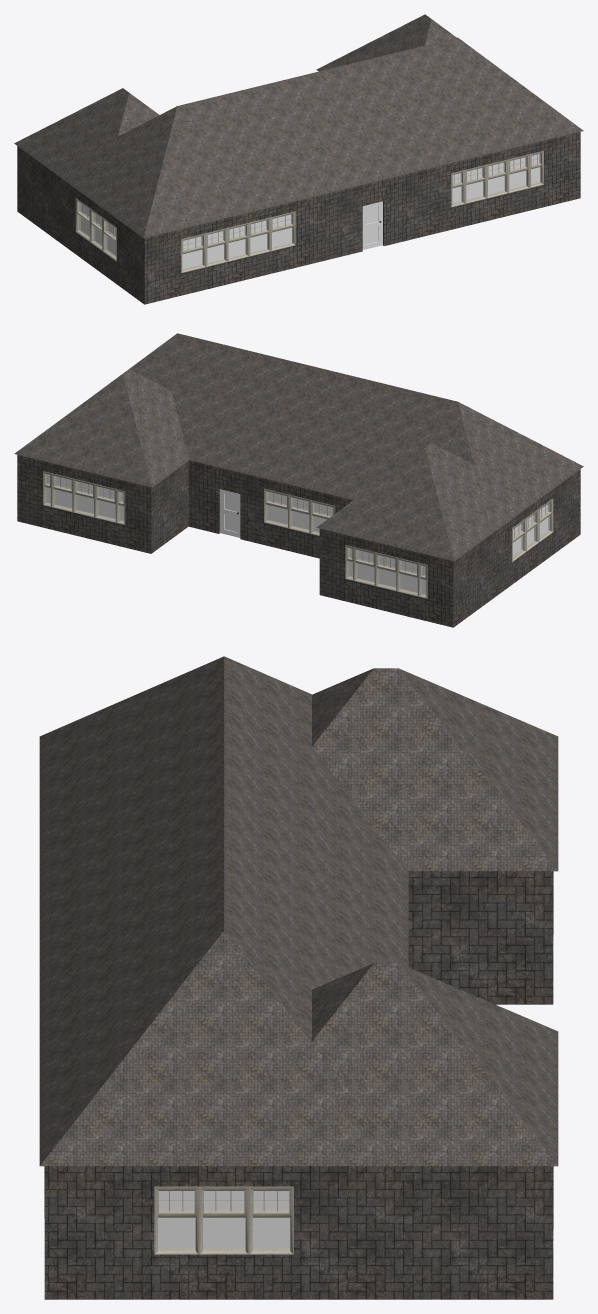
File: RandomHouseOutside05.fbx
The picture shows the model from 3 angles, top to bottom: view 1: azimuth 30°, elevation 25°; view 2: azimuth 150°, elevation 25°; view 3: azimuth 270°, elevation 25°; orthographic projection. The views are drawn at different scales.
Parts seen in each view (by area): view 1: Slanted Roof, Outside Plain Wall (Floor 1), FancyWindow_stretched (×13), BuildingFiller, generic_door; view 2: Slanted Roof, Outside Plain Wall (Floor 1), FancyWindow_stretched (×12), BuildingFiller, generic_door; view 3: Slanted Roof, Outside Plain Wall (Floor 1), FancyWindow_stretched (×3), BuildingFiller.
Part boxes in pixels (x1=…): Slanted Roof: x1=14, y1=14, x2=583, y2=238; Outside Plain Wall (Floor 1): x1=17, y1=132, x2=580, y2=304; FancyWindow_stretched (×13): x1=75, y1=151, x2=543, y2=272; BuildingFiller: x1=81, y1=154, x2=539, y2=268; generic_door: x1=362, y1=201, x2=382, y2=249; Slanted Roof: x1=14, y1=333, x2=583, y2=561; Outside Plain Wall (Floor 1): x1=17, y1=455, x2=580, y2=627; FancyWindow_stretched (×12): x1=51, y1=473, x2=553, y2=596; BuildingFiller: x1=47, y1=474, x2=548, y2=594; generic_door: x1=220, y1=489, x2=240, y2=537; Slanted Roof: x1=39, y1=656, x2=558, y2=1166; Outside Plain Wall (Floor 1): x1=44, y1=871, x2=553, y2=1299; FancyWindow_stretched (×3): x1=154, y1=1186, x2=293, y2=1254; BuildingFiller: x1=158, y1=1191, x2=290, y2=1247.
Size of the model in its own units: 20.4 by 6.5 by 10.4.
